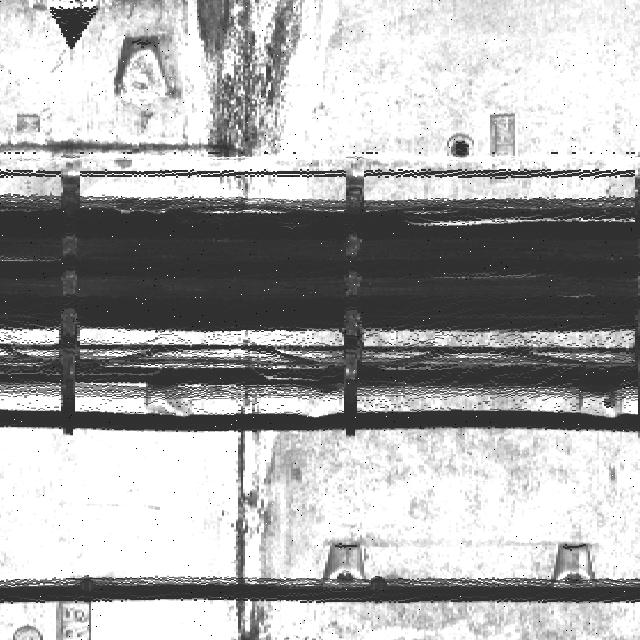leakage: (171, 1, 344, 215), (192, 382, 296, 637)
